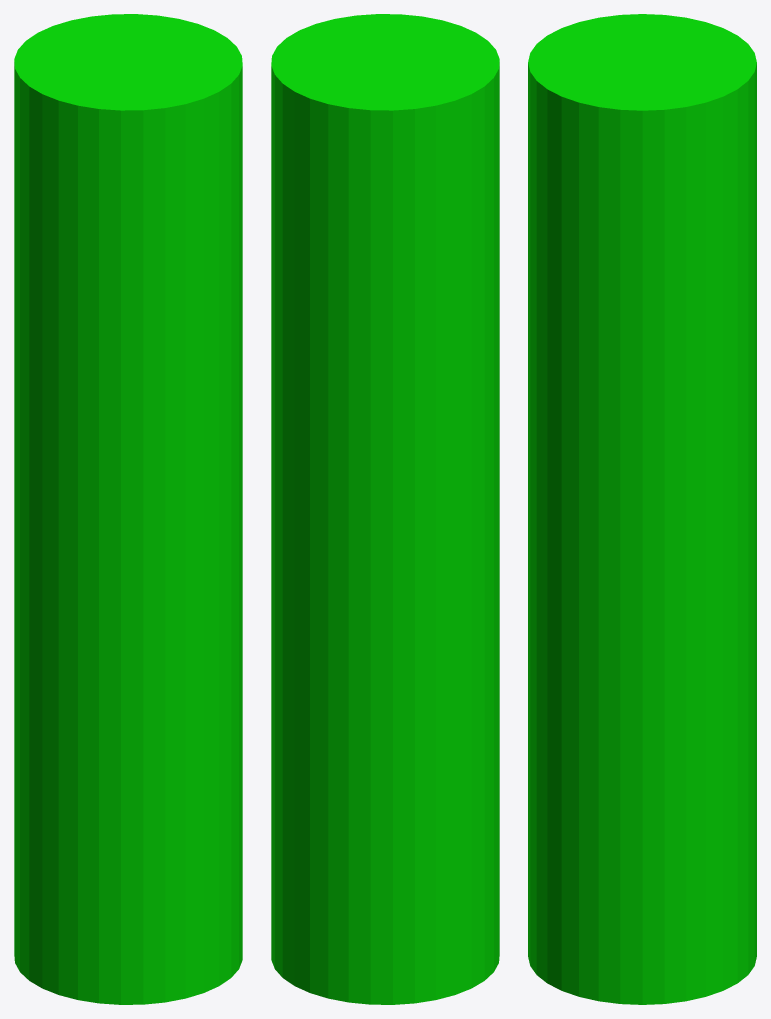
The model's file is insert_task_cylinder1_block2.dae.
3 views of the same model, side by side, from view 1: azimuth 30°, elevation 25°; view 2: azimuth 150°, elevation 25°; view 3: azimuth 270°, elevation 25° (orthographic).
Parts seen in each view (by area): view 1: Cylinder; view 2: Cylinder; view 3: Cylinder.
Part boxes in pixels (x1,y1,x2,y2): Cylinder: (14,14,242,1004); Cylinder: (271,14,499,1004); Cylinder: (528,14,756,1004).
Bounding box in the file's own units: 0.058 × 0.058 × 0.25.
